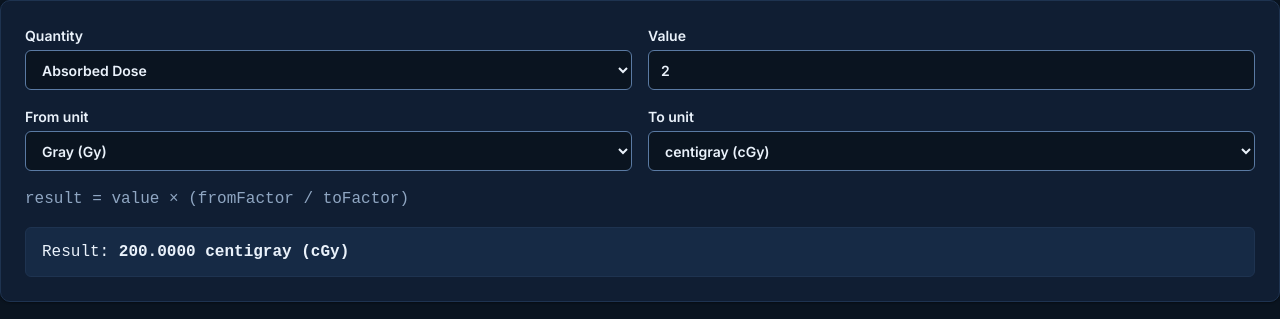
Test: SiConverter › keeps exactly 1e7 in fixed notation, like the legacy page
Select "Gray (Gy)" in the dropdown labelled "From unit": (328, 151) [25,131,632,171]
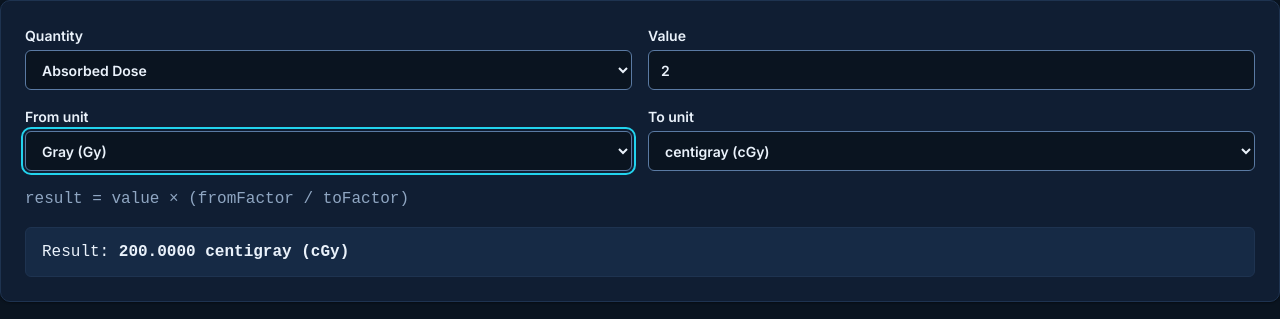
Select "Gray (Gy)" in the dropdown labelled "To unit": (952, 151) [648,131,1255,171]
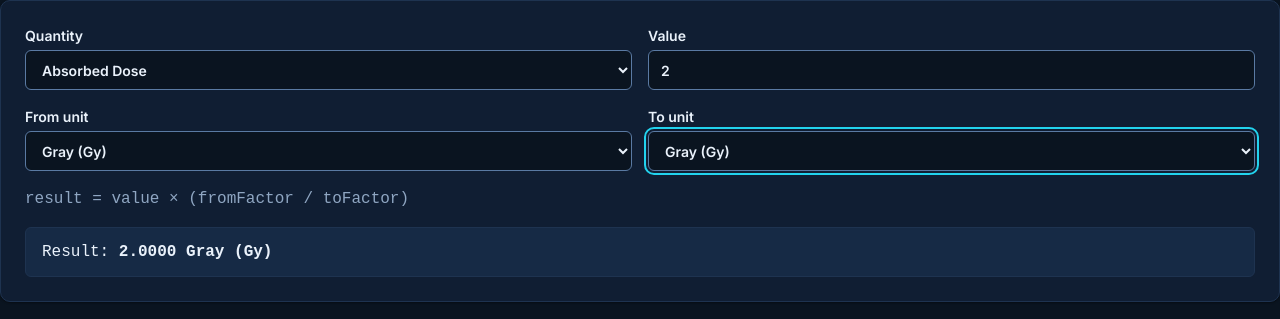
Replace the text in the number field labelled "Value" with "10000000": (952, 70) [648,50,1255,90]
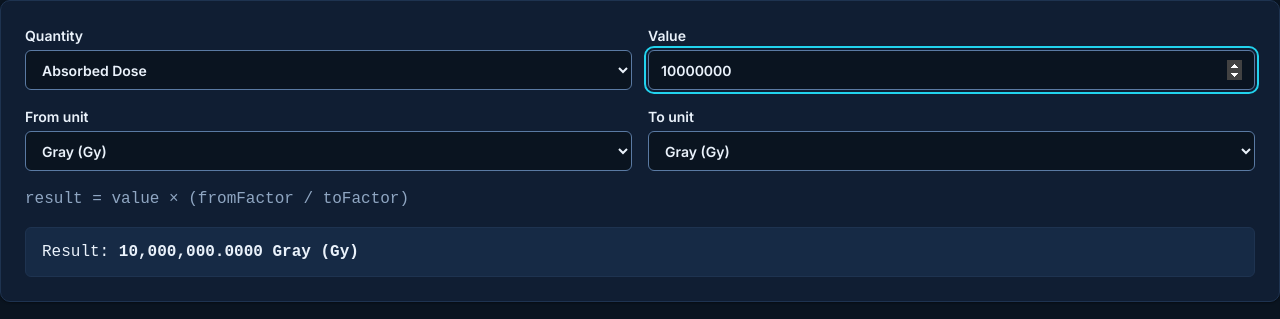
Check: the text "e+" is not shown
Check: the text "10,000,000.0000 Gray (Gy)" is shown, box [119,243,359,261]
Replace the text in the number field labelled "Value" with "10000001": (952, 70) [648,50,1255,90]
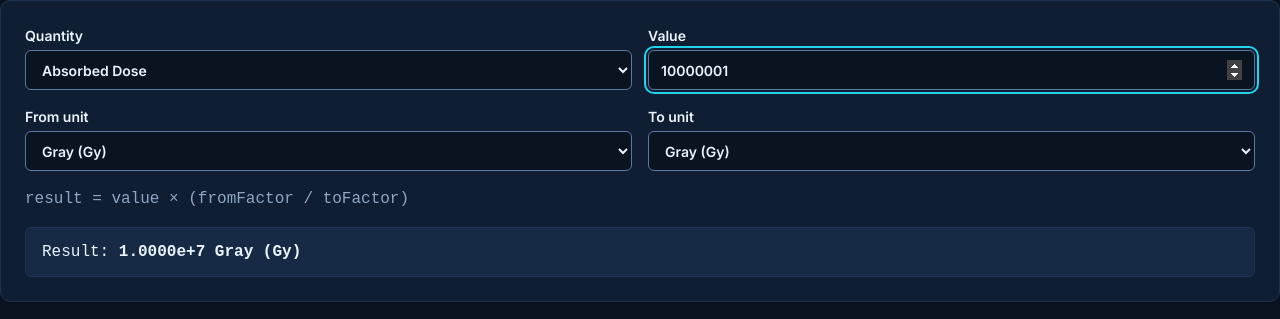
Check: the text "1.0000e+7" is shown, box [119,243,301,261]
